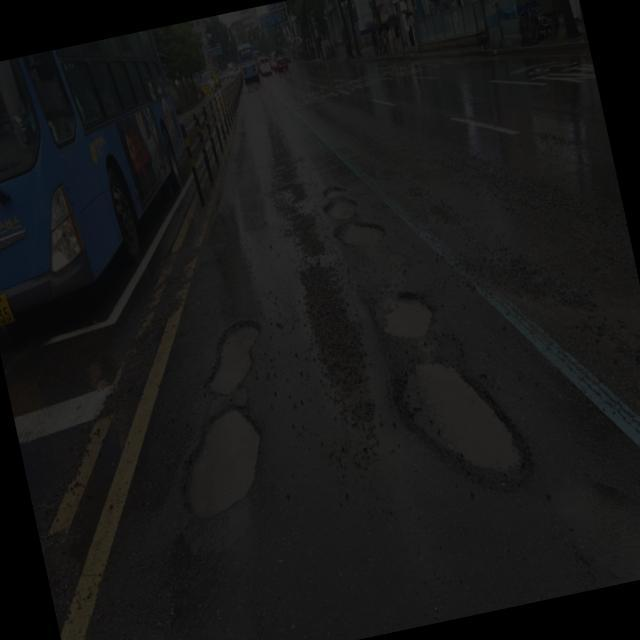pothole: (374, 331, 557, 534), (140, 386, 306, 546), (180, 293, 286, 405), (308, 158, 398, 266), (363, 274, 457, 362)
